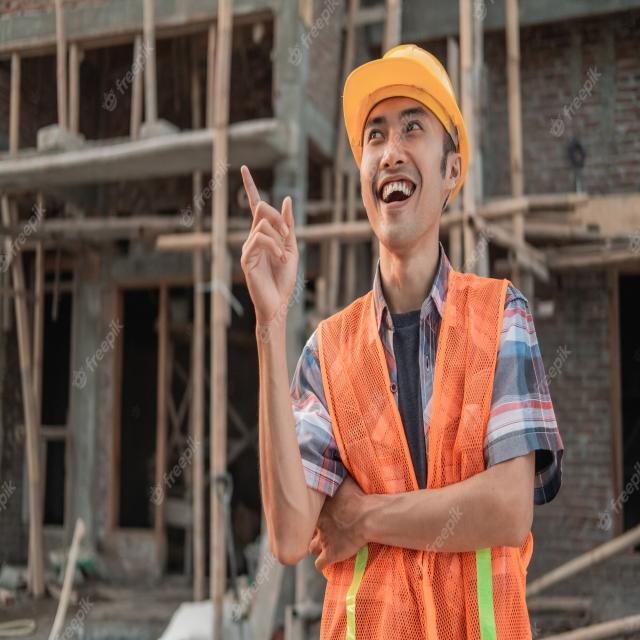helmet: (336, 34, 469, 160)
no-goggles: (355, 104, 451, 160)
vest: (311, 275, 532, 640)
